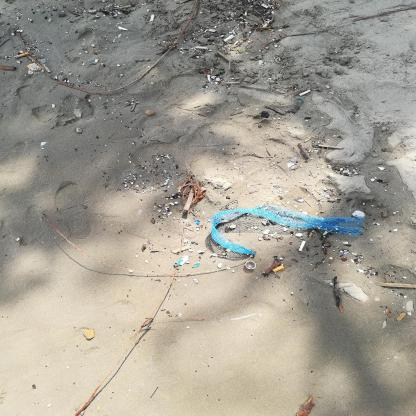diger: (210, 204, 364, 256)
plastik: (245, 260, 256, 270)
